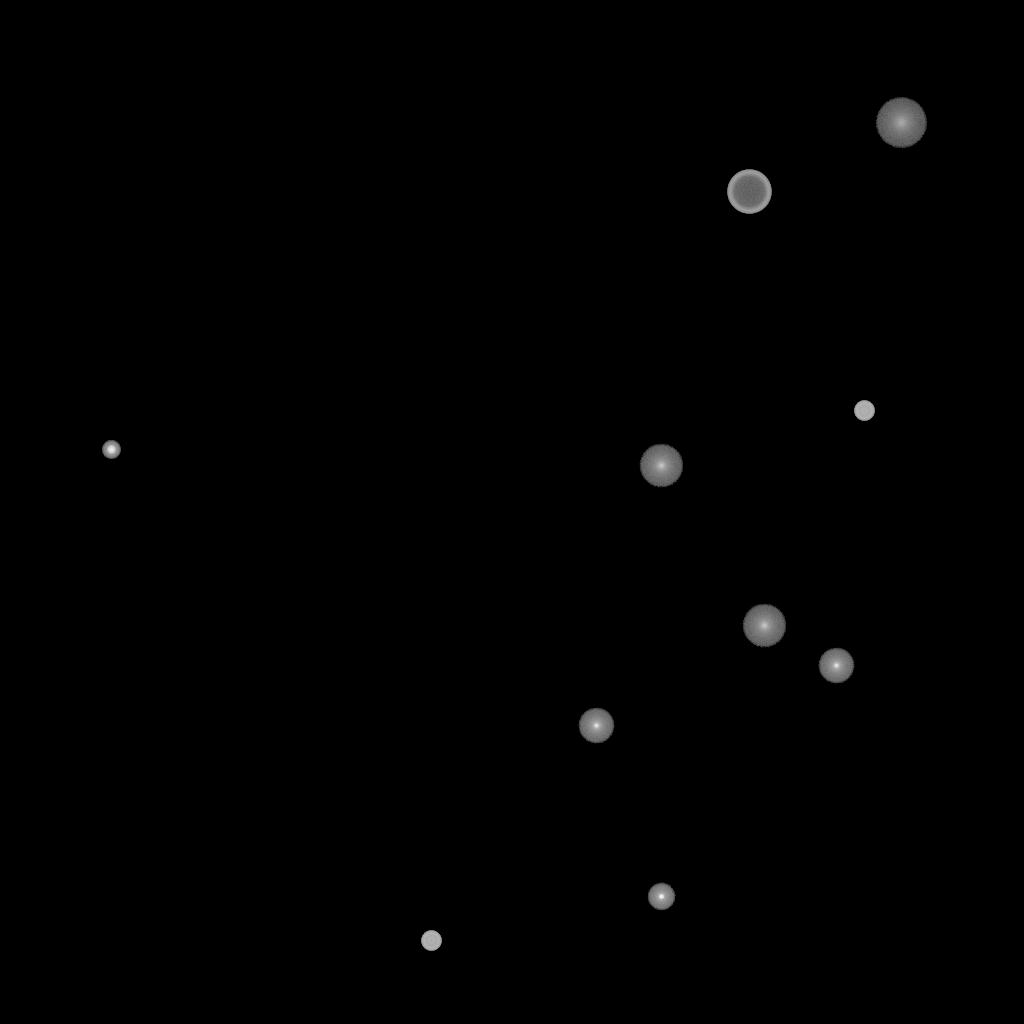depth:-10: (647, 883, 675, 911)
depth:-20: (102, 441, 120, 459)
depth:-40: (421, 931, 441, 951), (854, 401, 874, 421)
depth:-70: (727, 170, 771, 214)
depth:0: (578, 708, 614, 744), (818, 648, 854, 684)
depth:10: (742, 604, 786, 648), (639, 444, 683, 488)
depth:20: (875, 98, 927, 148)
